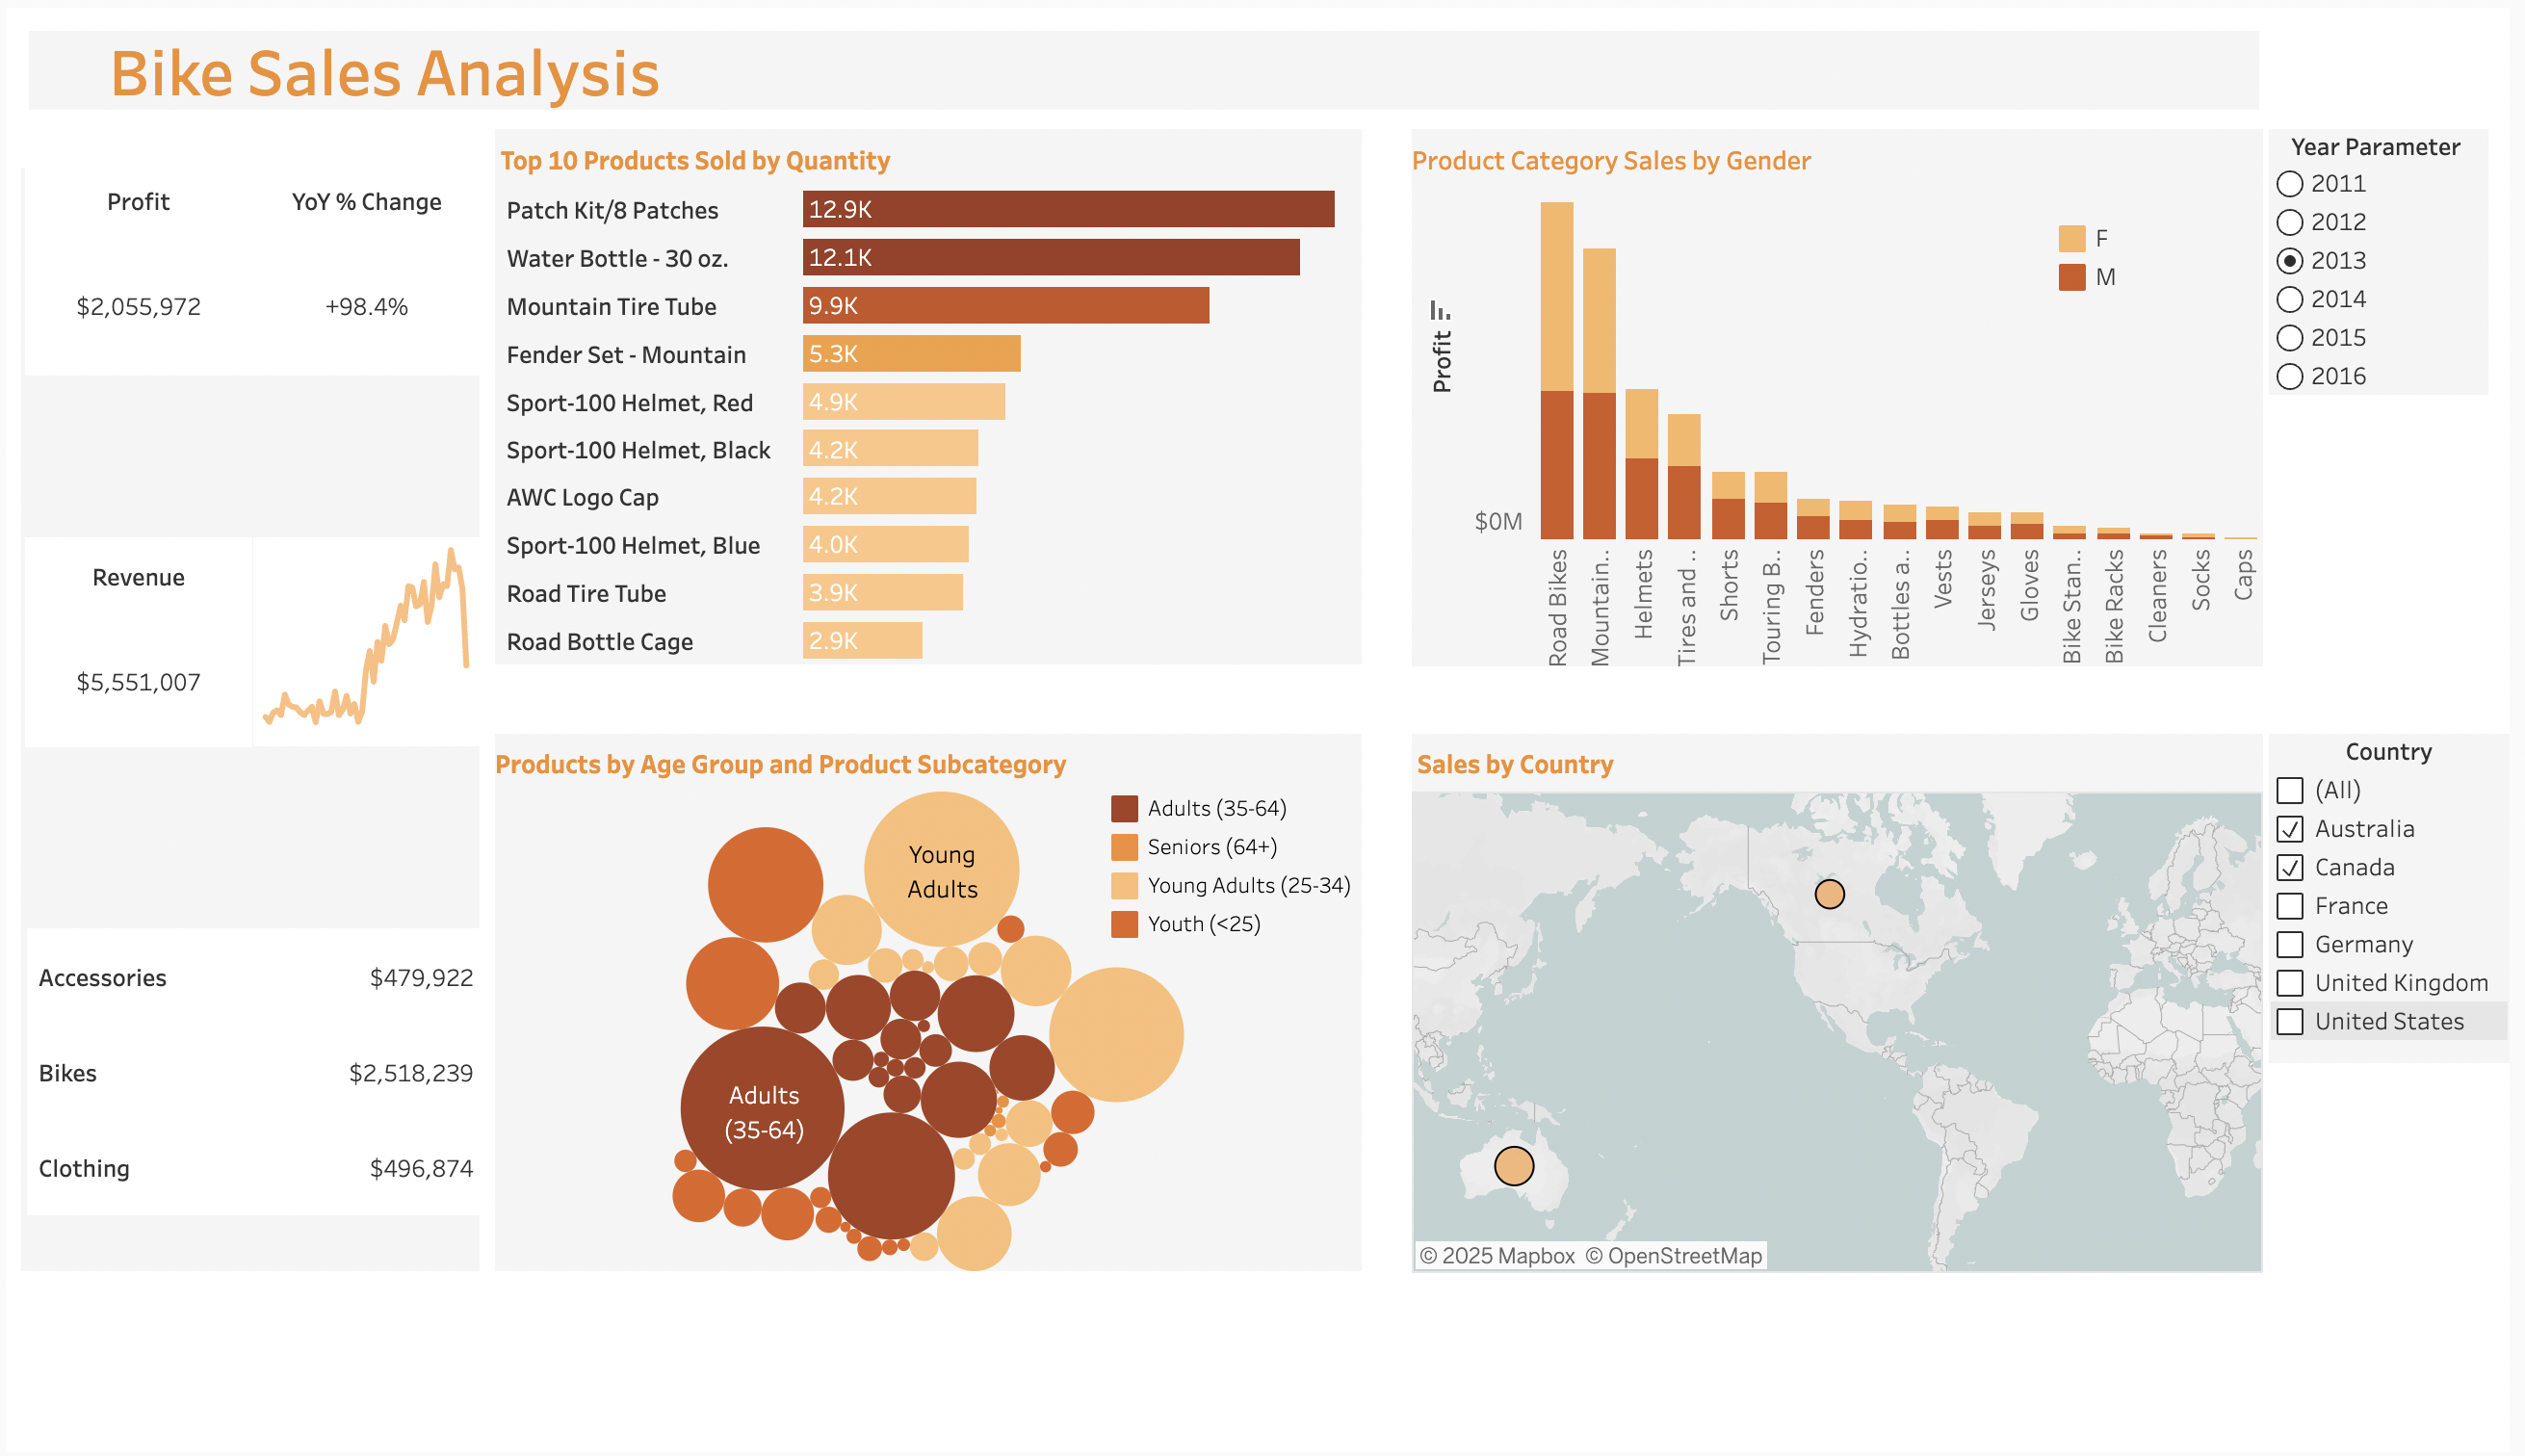

This screenshot's page, from the dashboard's own definition file:
{"tool":"tableau","page":{"name":"Bike Sales Dashboard","canvas":[1300,750],"ordinal":0},"visuals":[{"type":"title","box":[8,8,1166,49]},{"type":"blank","box":[8,57,1166,685]},{"type":"text","box":[254,63,450,31]},{"type":"text","box":[730,63,442,31]},{"type":"parameter","param":"[Parameters].[Parameter 1]","box":[1175,63,114,138]},{"type":"worksheet","title":"Profit Card","mark":"Automatic","cols":["Calculation_946600386631159809"],"box":[10,82.1,117.9,108.9]},{"type":"worksheet","title":"YoY % change","mark":"Automatic","cols":["Calculation_946600386635194375"],"box":[127.9,82.1,118.9,108.9]},{"type":"worksheet","title":"Top 10 Products","mark":"Bar","rows":["Product"],"box":[254,92,450,249]},{"type":"worksheet","title":"Sub Category Bar Chart","mark":"Automatic","rows":["Profit"],"cols":["Sub_Category"],"box":[730,92,442,250]},{"type":"legend","title":"Sub Category Bar Chart","param":"[federated.01sri0p02e0912140nq9t0uyowcr].[none:Customer_Gender:nk]","box":[1063.2,109.8,120.9,55.4]},{"type":"worksheet","title":"Revenue Card","mark":"Automatic","cols":["Calculation_970736865897320448"],"box":[10,274.9,117.9,108.9]},{"type":"worksheet","title":"Revenue Line Chart","mark":"Automatic","rows":["Revenue"],"cols":["Date"],"box":[127.9,274.9,117.9,108.9]},{"type":"text","box":[254,377,450,30]},{"type":"text","box":[730,377,442,30]},{"type":"filter","title":"Age Group Bubble Chart","param":"[federated.01sri0p02e0912140nq9t0uyowcr].[none:Country:nk]","box":[1175,377,125,171]},{"type":"legend","title":"Age Group Bubble Chart","param":"[federated.01sri0p02e0912140nq9t0uyowcr].[none:Age_Group:nk]","box":[571,406,137,92]},{"type":"worksheet","title":"Age Group Bubble Chart","mark":"Circle","box":[254,407,450,249]},{"type":"worksheet","title":"Map","mark":"Automatic","box":[730,407,442,250]},{"type":"worksheet","title":"Cost Card","mark":"Automatic","rows":["Product_Category"],"box":[11,477.9,235.8,149.4]}]}

Visuals, with their boxes in screenshot pixels (x1, y1, x2, y2), scaled from the page's 1300x750 canvas onto the 2525x1456 screenshot:
title: 15, 15, 2280, 111
blank: 15, 111, 2280, 1441
text: 493, 122, 1367, 183
text: 1418, 122, 2277, 183
parameter: 2282, 122, 2504, 390
"Profit Card" worksheet: 19, 160, 248, 371
"YoY % change" worksheet: 248, 160, 480, 371
"Top 10 Products" worksheet (Bar marks): 493, 178, 1367, 662
"Sub Category Bar Chart" worksheet: 1418, 178, 2277, 663
"Sub Category Bar Chart" legend: 2065, 213, 2300, 321
"Revenue Card" worksheet: 19, 533, 248, 745
"Revenue Line Chart" worksheet: 248, 533, 478, 745
text: 493, 732, 1367, 791
text: 1418, 732, 2277, 791
"Age Group Bubble Chart" filter: 2282, 732, 2524, 1064
"Age Group Bubble Chart" legend: 1109, 788, 1375, 967
"Age Group Bubble Chart" worksheet (Circle marks): 493, 791, 1367, 1273
"Map" worksheet: 1418, 791, 2277, 1276
"Cost Card" worksheet: 21, 927, 480, 1218
